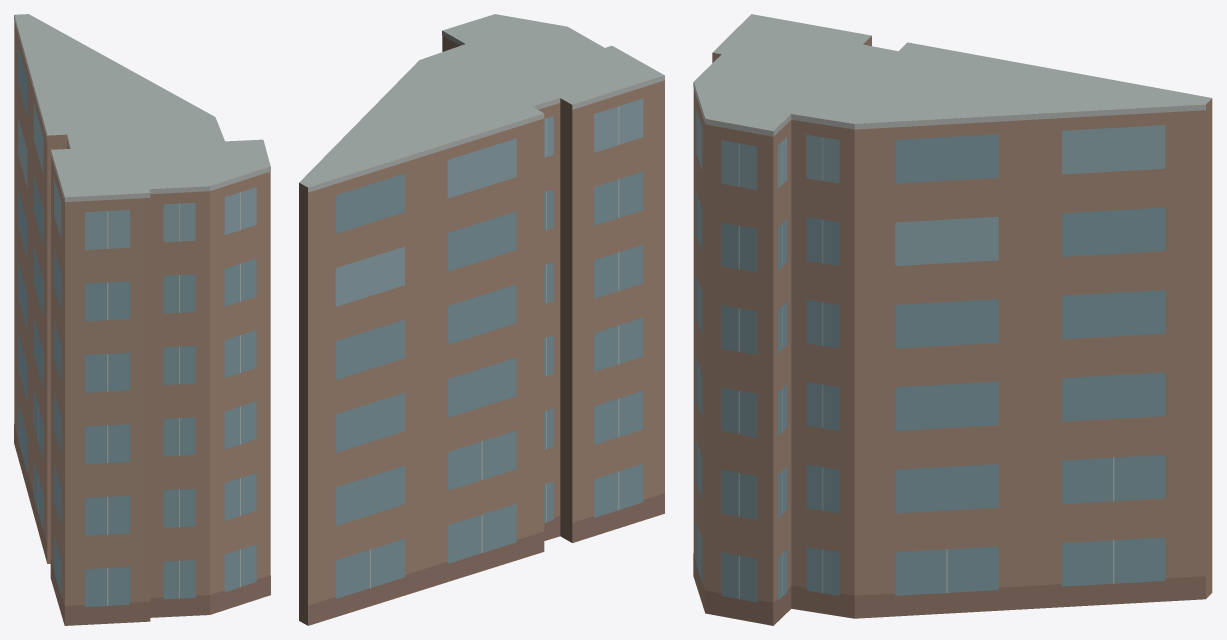
File: survey-upis-32530973.glb
The picture shows the model from 3 angles, left to right: view 1: azimuth 30°, elevation 25°; view 2: azimuth 150°, elevation 25°; view 3: azimuth 270°, elevation 25°; orthographic projection. The views are drawn at different scales.
Visible parts, largest first — view 1: survey-upis-32530973.tmp; view 2: survey-upis-32530973.tmp; view 3: survey-upis-32530973.tmp.
Part boxes in pixels (bbox=[...]): survey-upis-32530973.tmp: bbox=[14, 14, 270, 625]; survey-upis-32530973.tmp: bbox=[299, 14, 664, 625]; survey-upis-32530973.tmp: bbox=[693, 14, 1212, 625].
Bounding box in the file's own units: 10.89 × 21.4 × 20.35.
